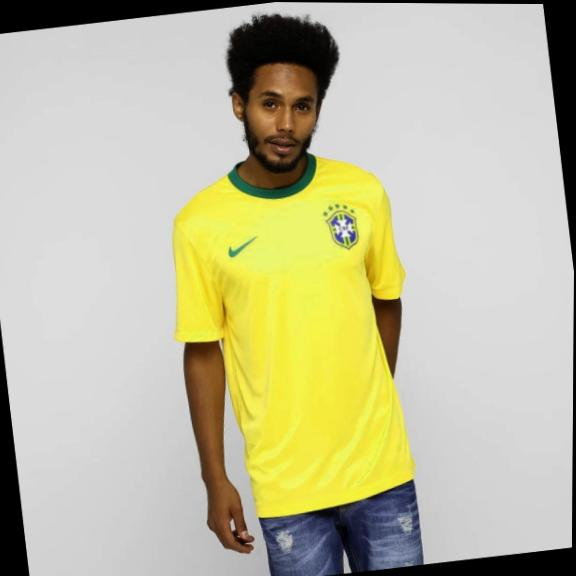no_safety_vest: (148, 144, 438, 526)
